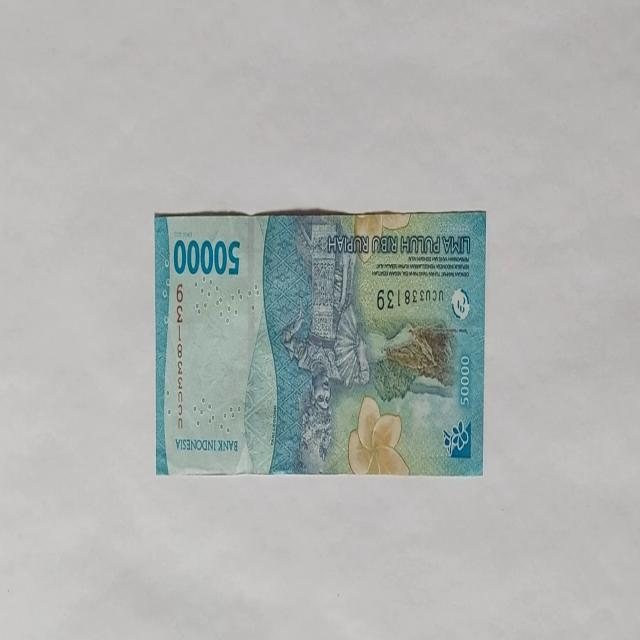lima puluh ribu rupiah: (154, 208, 486, 476), (172, 235, 241, 278)
